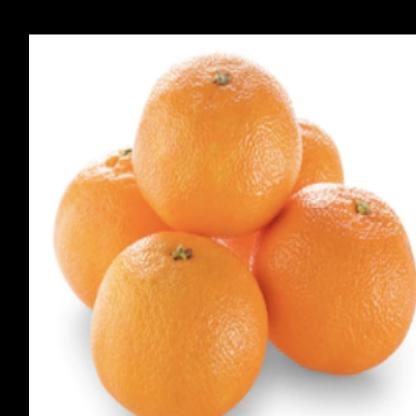fresh: (55, 52, 416, 416)
